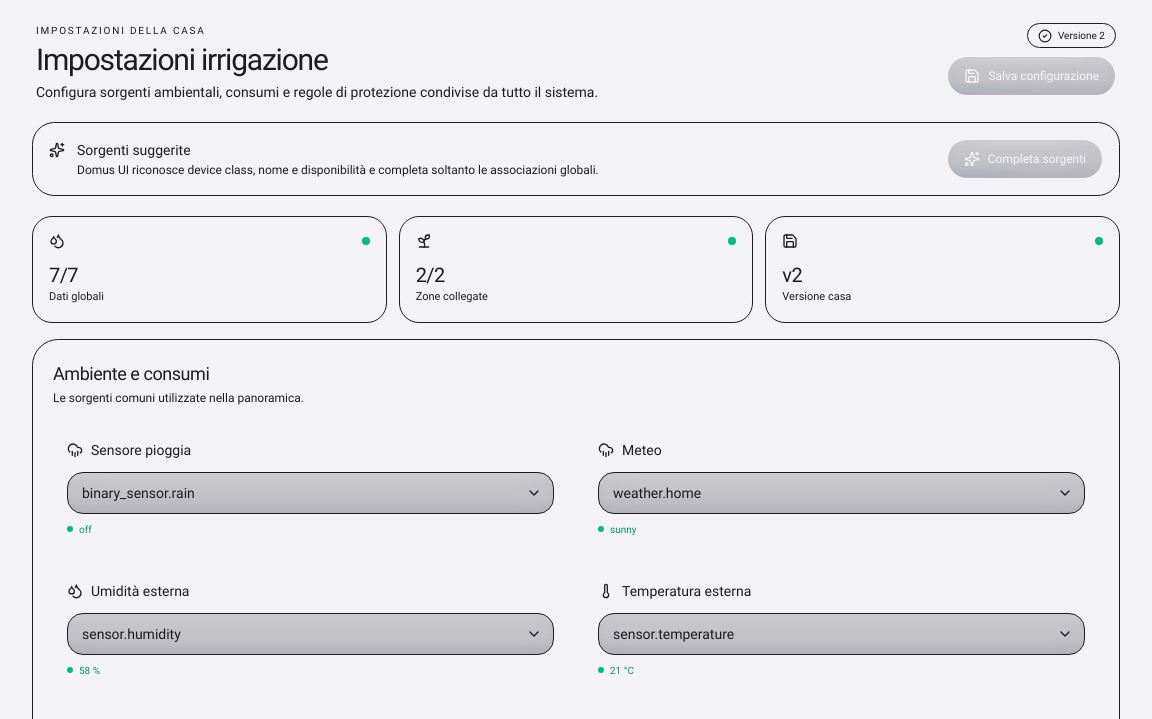
IrrigationConfigurationPage › does not save a structurally unsafe configuration
Click the button "Salva configurazione".
click(1032, 76)  # box x1=947 y1=56 x2=1116 y2=96
(page scrolled)
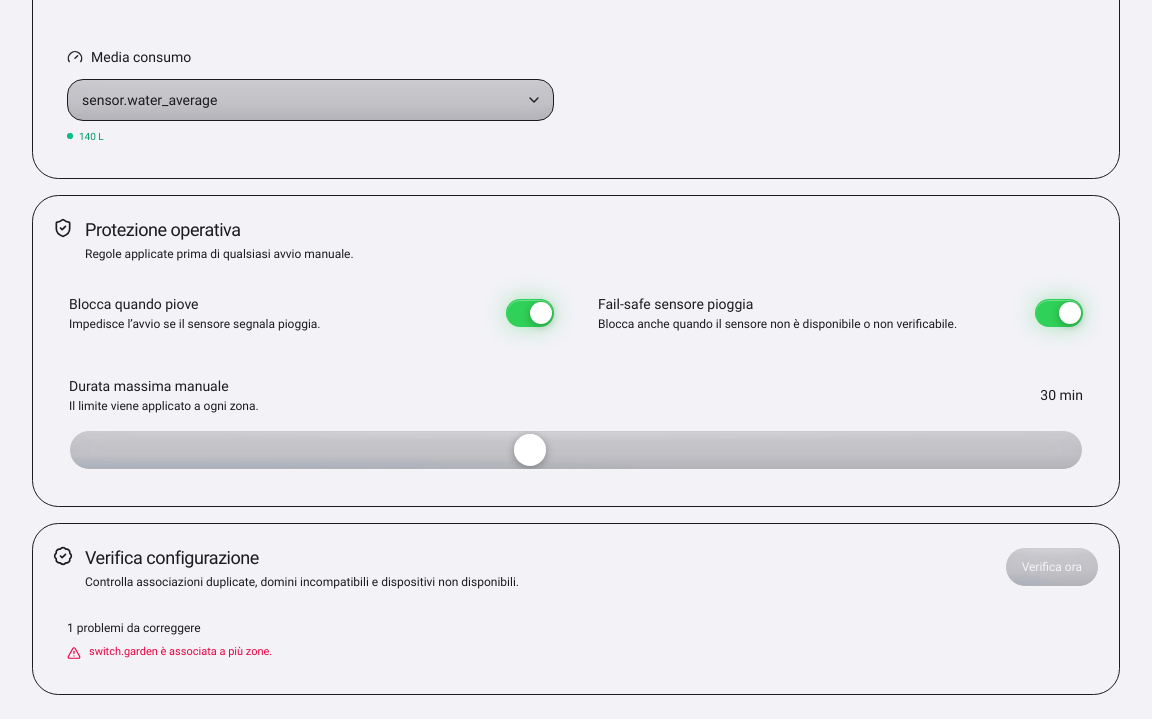
Result: the text "1 problemi da correggere" is shown at x1=67 y1=620 x2=201 y2=634
